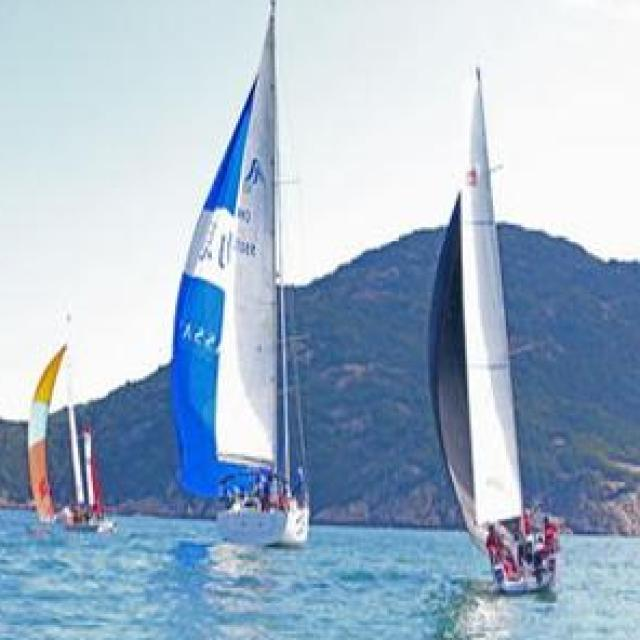sailboat: (426, 59, 576, 596), (173, 0, 320, 545), (22, 300, 92, 532), (80, 417, 119, 538)
